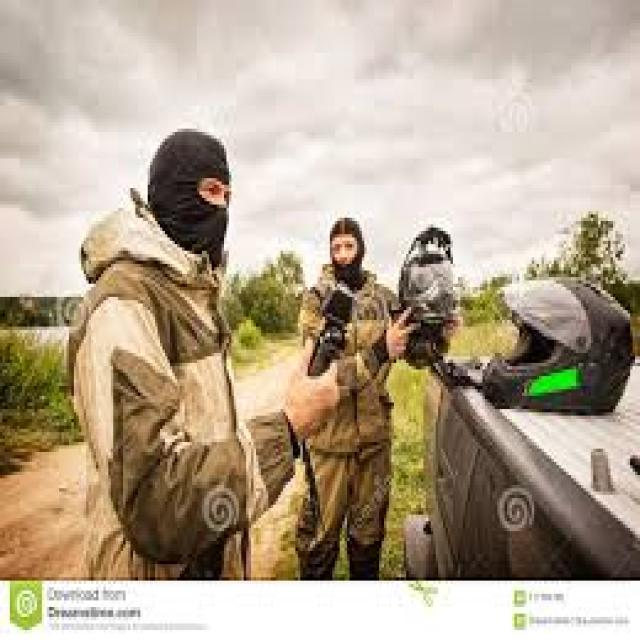6_pasamontana: (146, 127, 232, 270)
